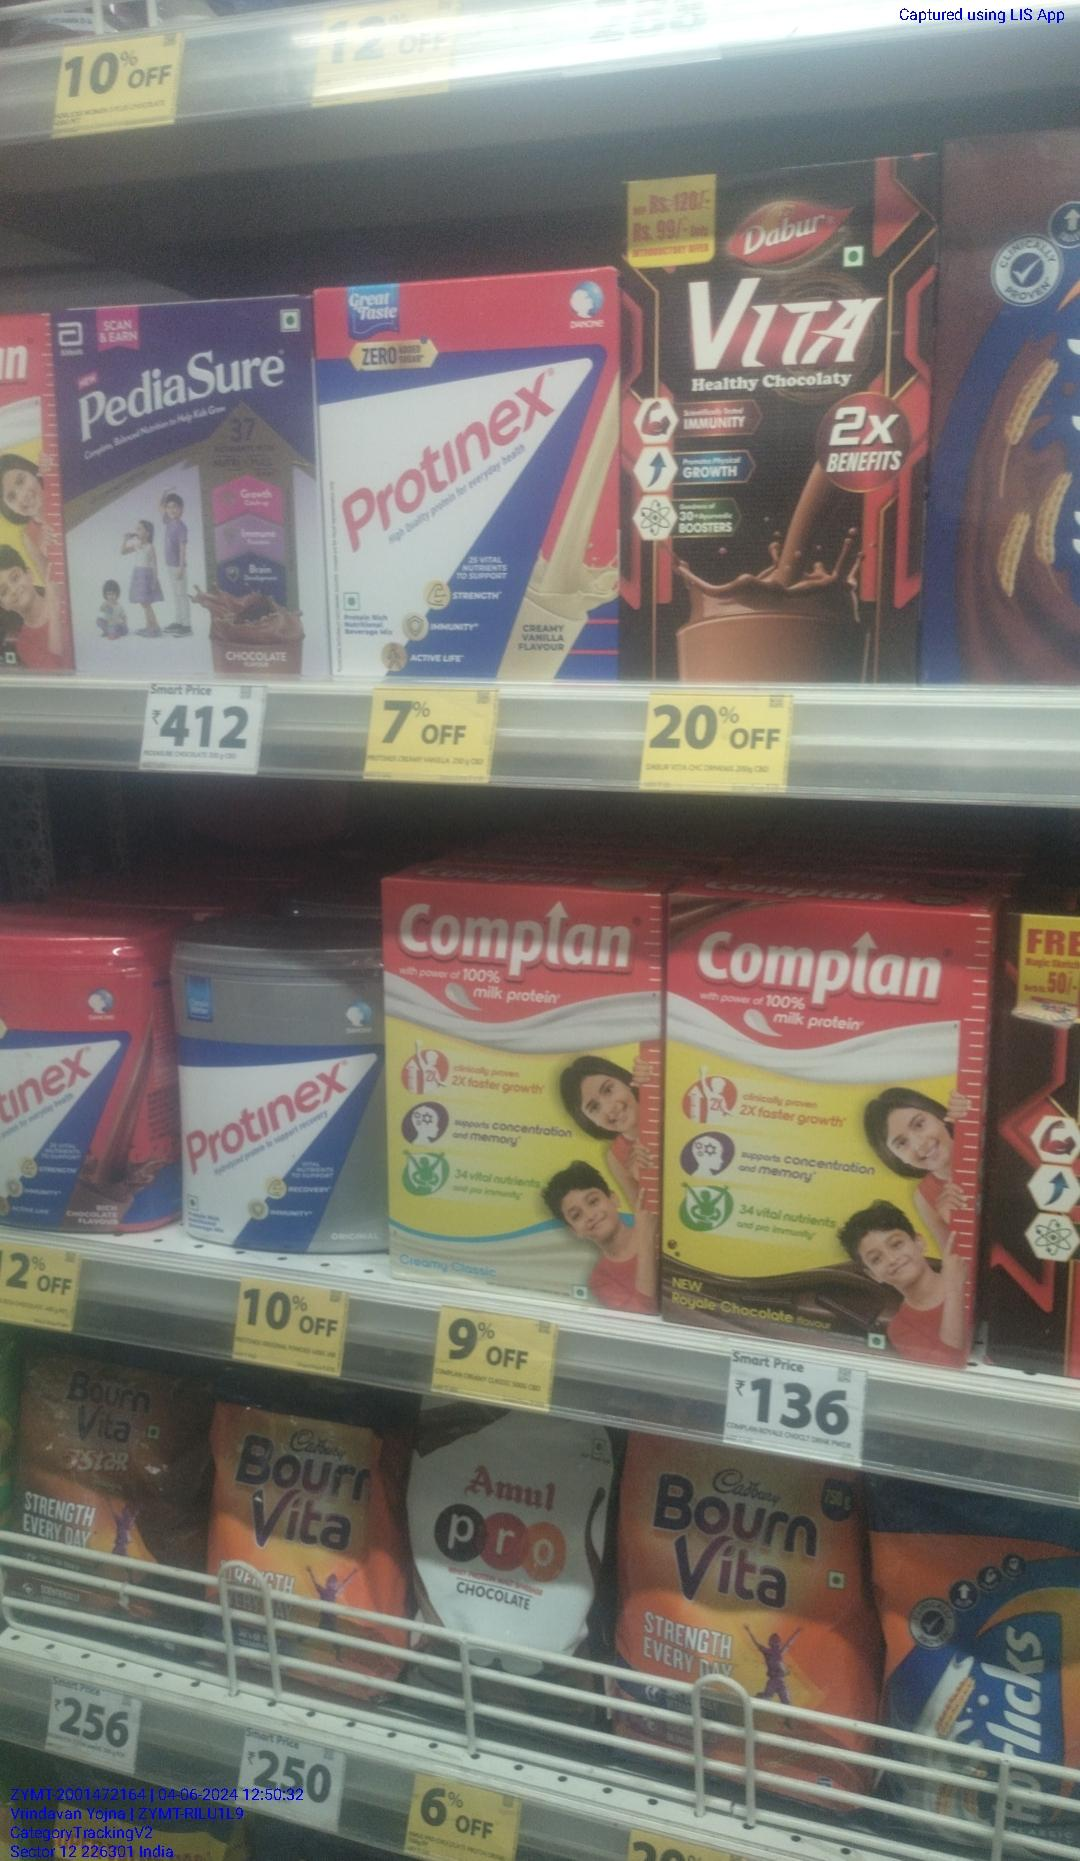BOURN_VITA_FIVE_STAR_MAGIC_500_G_POUCH: (18, 1342, 210, 1659)
PROTINEX_CHOCOLATE_400_G_JAR: (4, 923, 163, 1244)
PROTINEX_ORIGINAL_400_G_JAR: (180, 943, 390, 1261)
